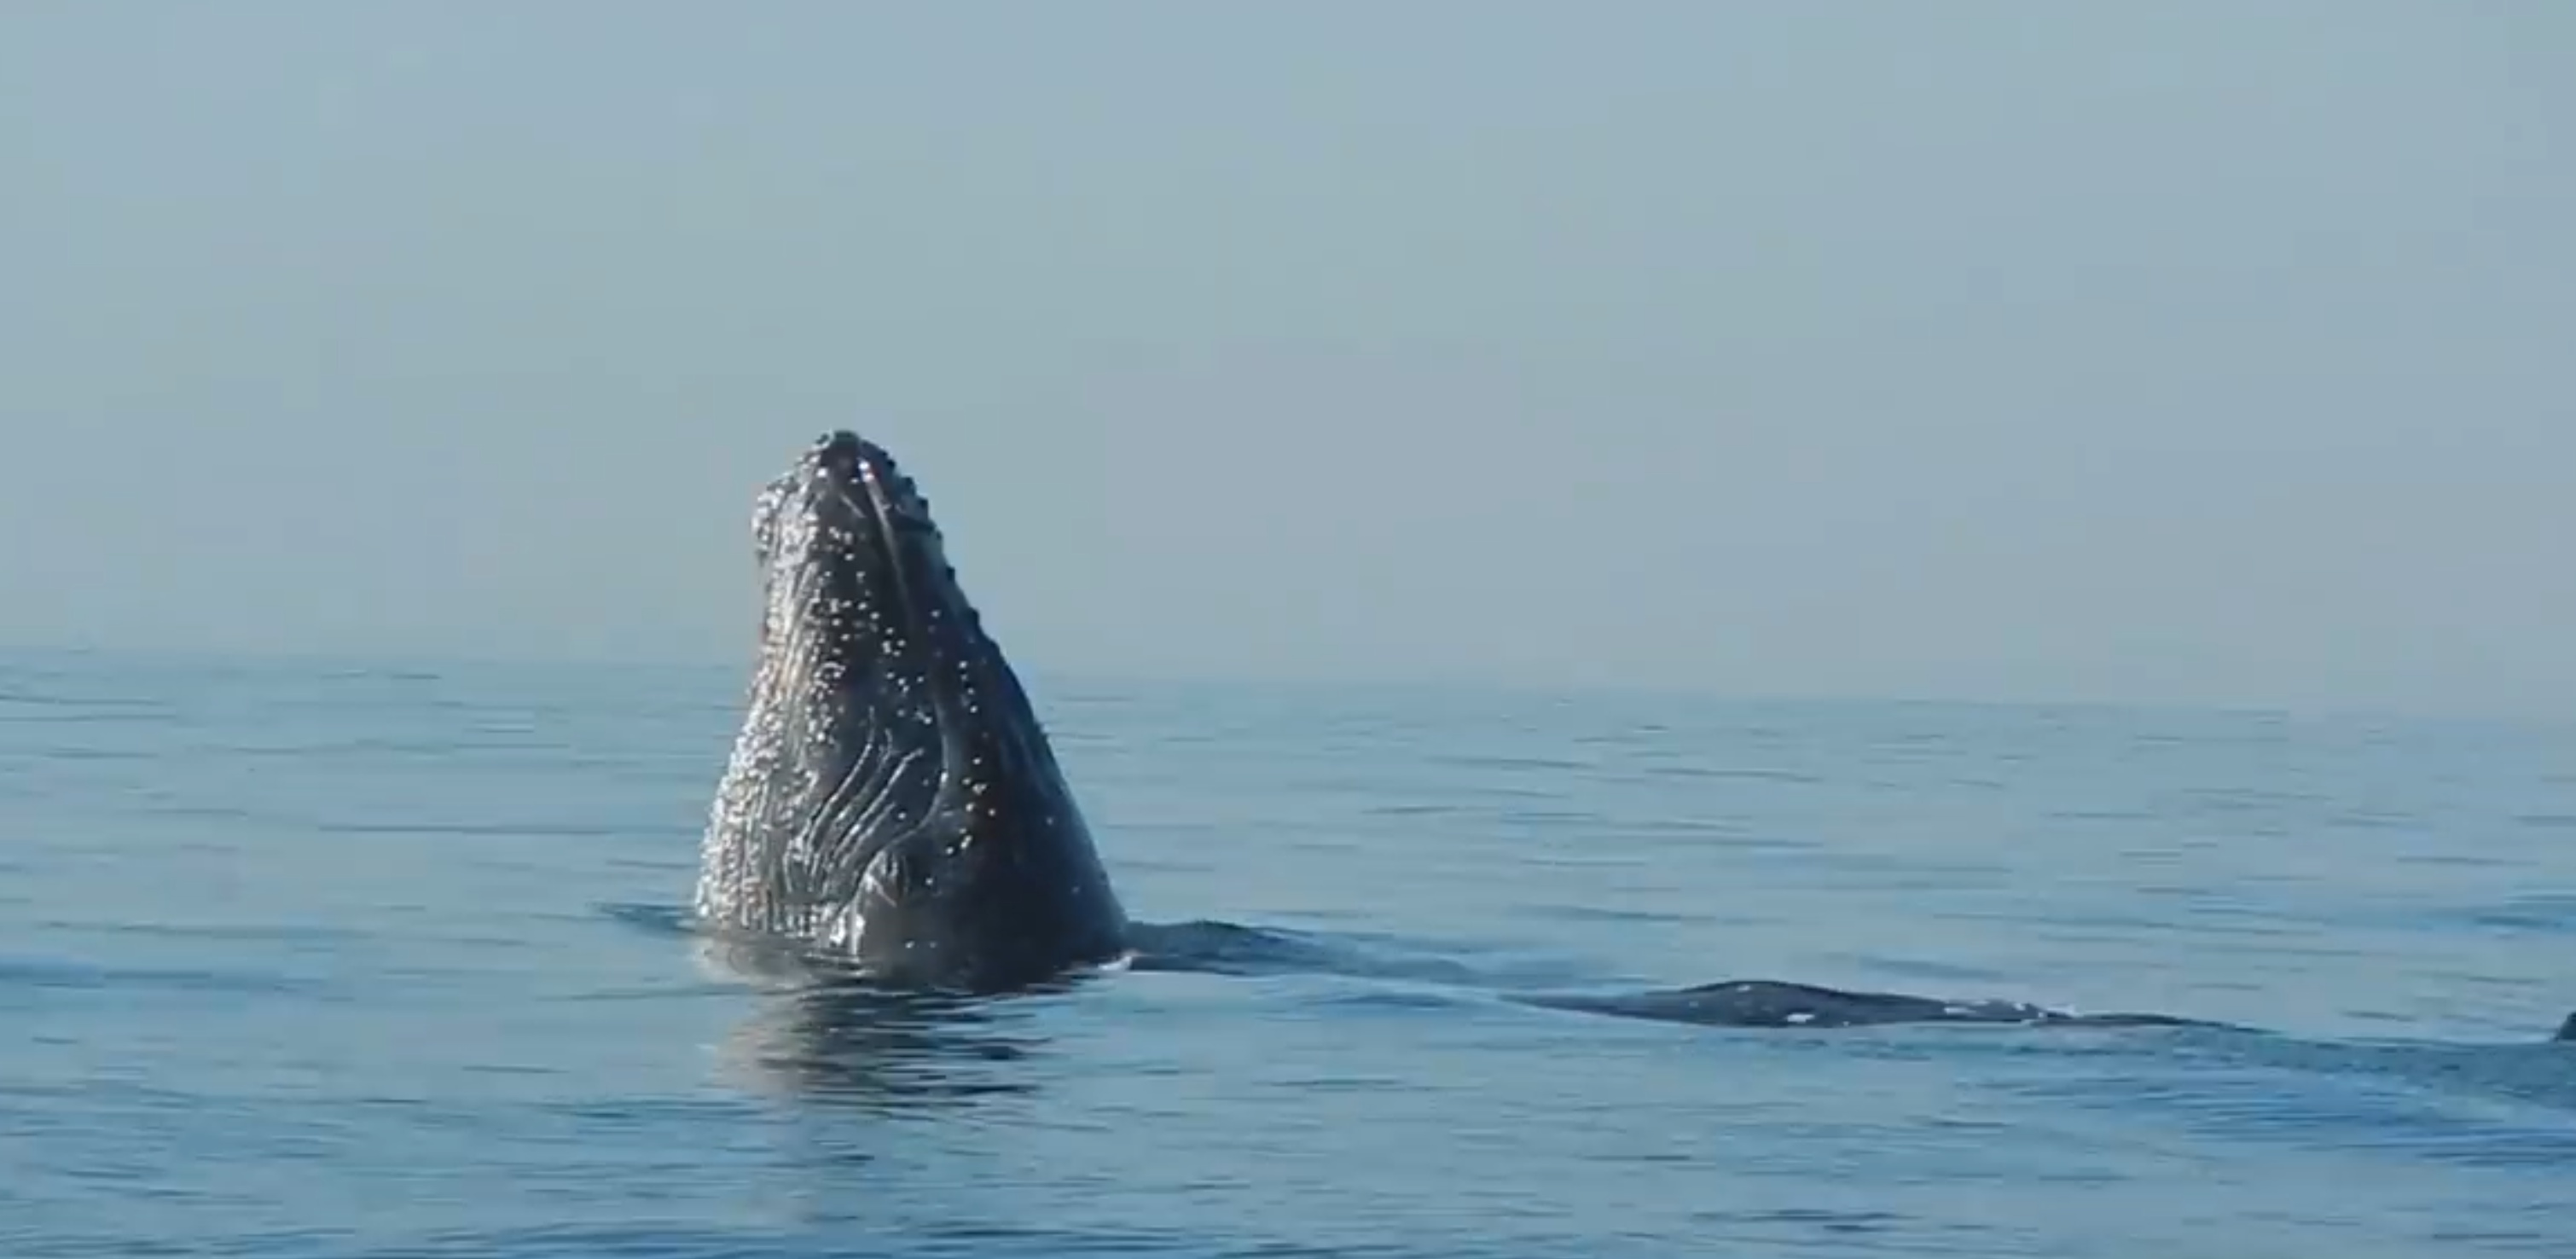humpback: (697, 431, 1122, 960)
